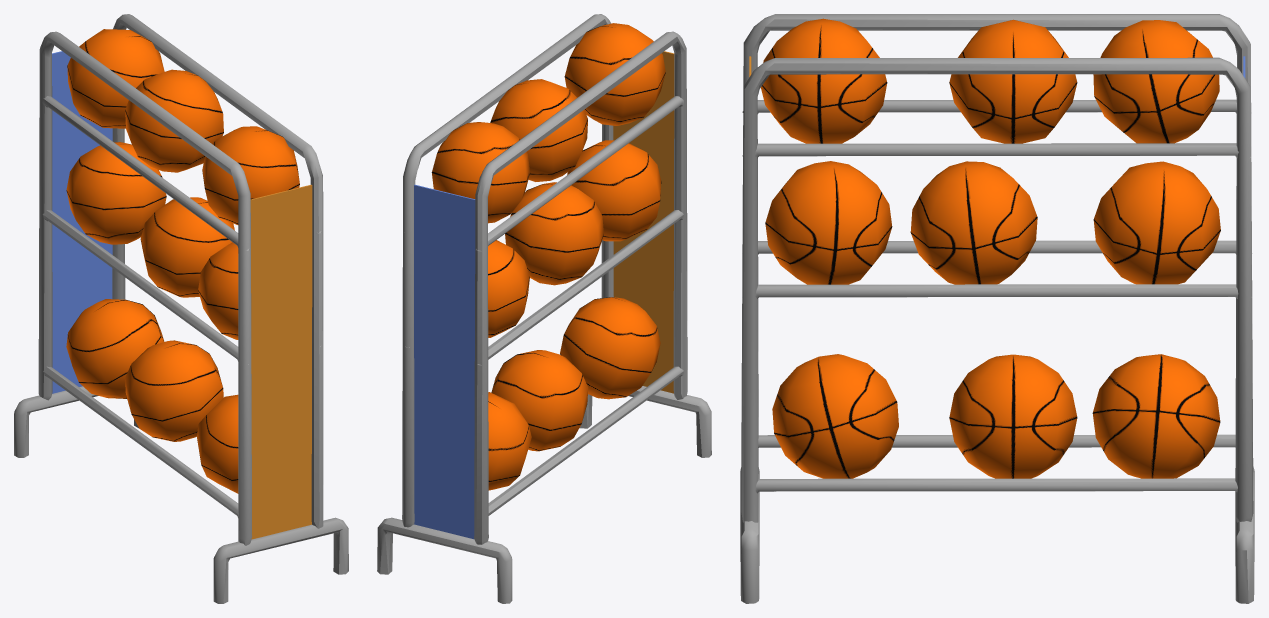
The model's file is ball_rack2.fbx.
3 views of the same model, side by side, from view 1: azimuth 30°, elevation 25°; view 2: azimuth 150°, elevation 25°; view 3: azimuth 270°, elevation 25° (orthographic). The views are drawn at different scales.
Visible parts, largest first — view 1: Cylinder.002, Plane.001, Plane.002, Sphere.007, Sphere.009, Sphere.003, Sphere.002, Sphere.006, Sphere.005, Sphere.004, Sphere.001, Sphere.008; view 2: Cylinder.002, Plane.002, Plane.001, Sphere.001, Sphere.006, Sphere.004, Sphere.007, Sphere.005, Sphere.008, Sphere.003, Sphere.002, Sphere.009; view 3: Cylinder.002, Sphere.002, Sphere.007, Sphere.001, Sphere.006, Sphere.008, Sphere.009, Sphere.004, Sphere.005, Sphere.003.
Part boxes in pixels (bbox=[...]): Cylinder.002: bbox=[14, 14, 348, 603]; Plane.001: bbox=[250, 184, 312, 539]; Plane.002: bbox=[52, 51, 112, 393]; Sphere.007: bbox=[125, 340, 223, 441]; Sphere.009: bbox=[66, 142, 166, 244]; Sphere.003: bbox=[125, 69, 223, 172]; Sphere.002: bbox=[66, 299, 164, 398]; Sphere.006: bbox=[140, 197, 234, 297]; Sphere.005: bbox=[67, 29, 164, 128]; Sphere.004: bbox=[202, 126, 299, 224]; Sphere.001: bbox=[197, 394, 238, 493]; Sphere.008: bbox=[198, 242, 238, 339]; Cylinder.002: bbox=[377, 14, 711, 603]; Plane.002: bbox=[414, 184, 475, 539]; Plane.001: bbox=[613, 51, 674, 393]; Sphere.001: bbox=[560, 297, 660, 399]; Sphere.006: bbox=[505, 182, 603, 285]; Sphere.004: bbox=[564, 23, 665, 125]; Sphere.007: bbox=[491, 350, 588, 451]; Sphere.005: bbox=[431, 122, 529, 223]; Sphere.008: bbox=[567, 140, 661, 241]; Sphere.003: bbox=[490, 79, 587, 181]; Sphere.002: bbox=[488, 392, 531, 490]; Sphere.009: bbox=[488, 240, 529, 337]; Cylinder.002: bbox=[740, 14, 1254, 603]; Sphere.002: bbox=[1092, 354, 1220, 478]; Sphere.007: bbox=[949, 354, 1077, 478]; Sphere.001: bbox=[772, 354, 898, 478]; Sphere.006: bbox=[910, 161, 1037, 284]; Sphere.008: bbox=[765, 161, 892, 284]; Sphere.009: bbox=[1093, 161, 1220, 284]; Sphere.004: bbox=[761, 18, 887, 143]; Sphere.005: bbox=[1093, 20, 1219, 143]; Sphere.003: bbox=[949, 19, 1077, 143].
Bounding box in the file's own units: 78.26 × 244 × 211.
